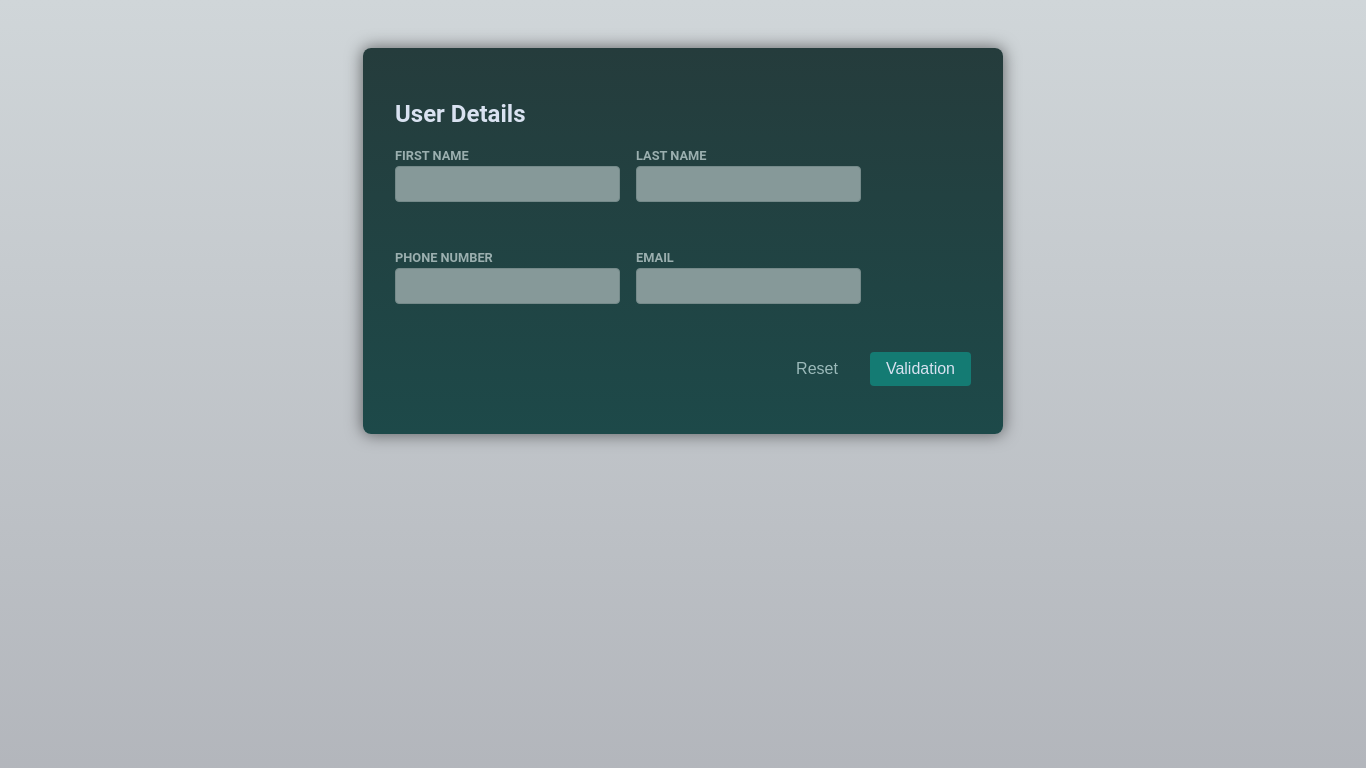
Scenario: shows error for invalid phone number
The width and height of the screenshot is (1366, 768).
Type "123abc" into the field labelled "Phone Number" at (508, 286), box [395,268,620,304]
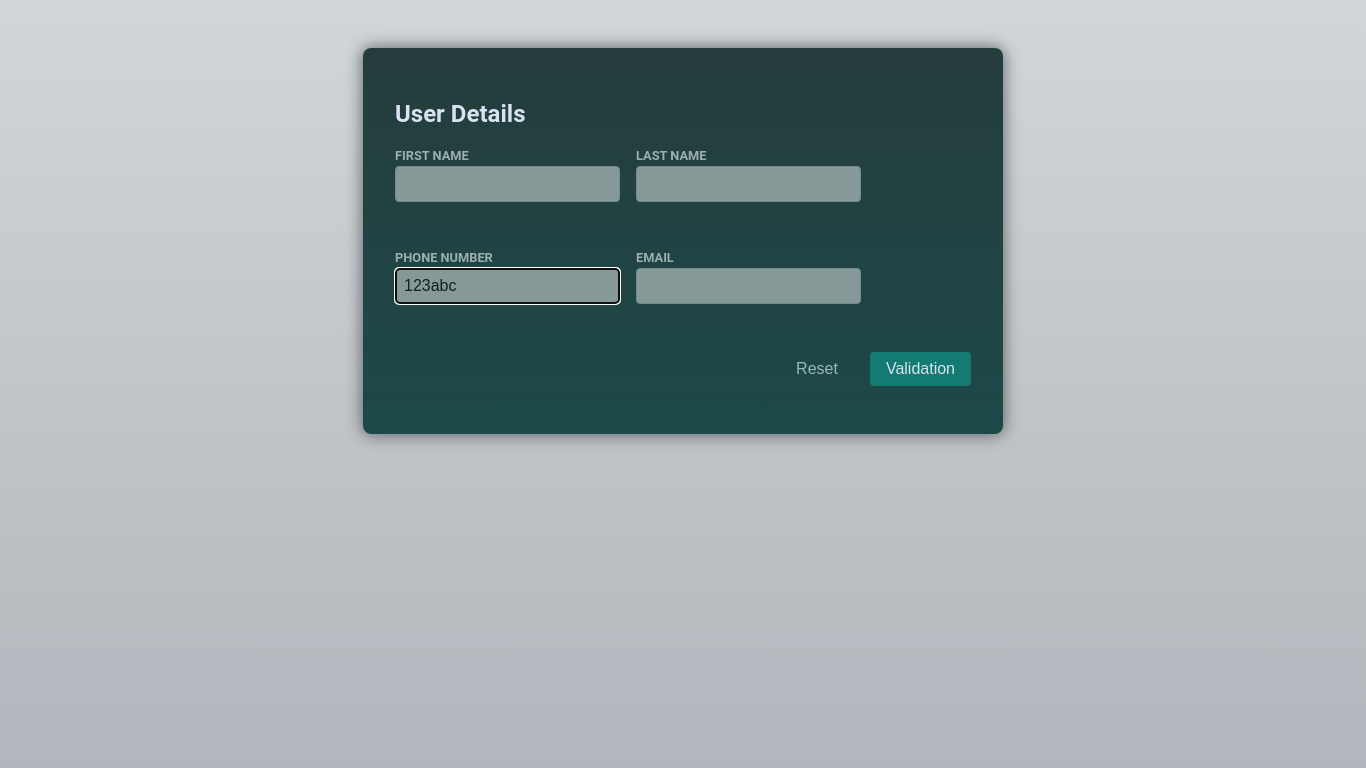
Click the button "Validation" at (920, 369), box [870,352,971,386]
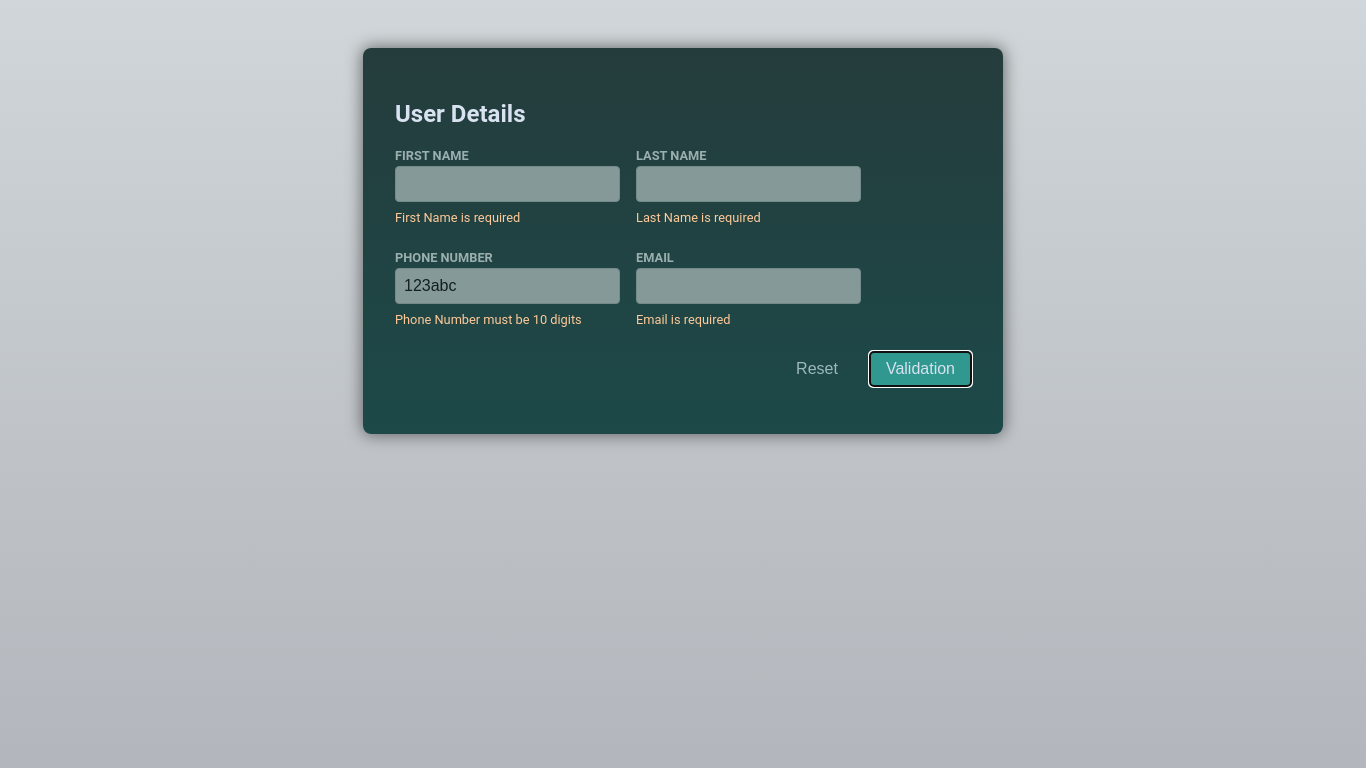
Expected: the text "Phone Number must be 10 digits" is shown, [395,312,582,327]
